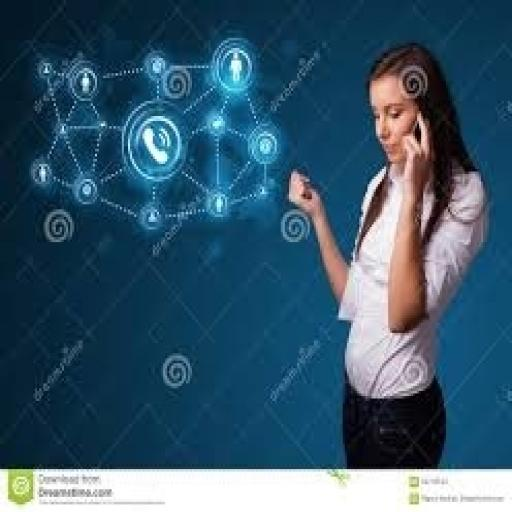calling: (283, 40, 489, 469)
